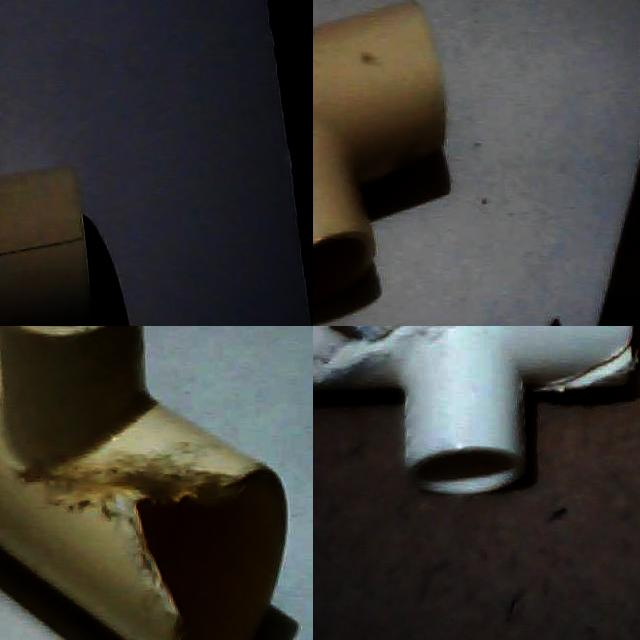Defective: (36, 453, 250, 640), (534, 338, 640, 408), (313, 326, 387, 401)
T Joint: (313, 326, 640, 495), (313, 2, 445, 319)
